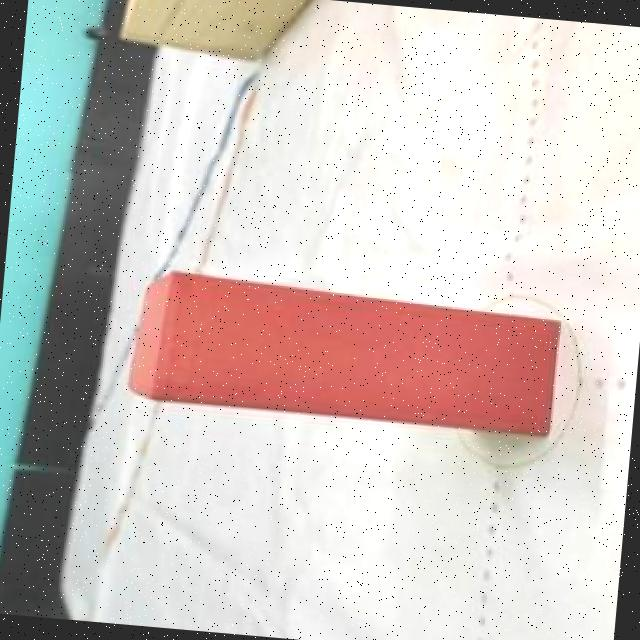redbox: (123, 268, 563, 438)
